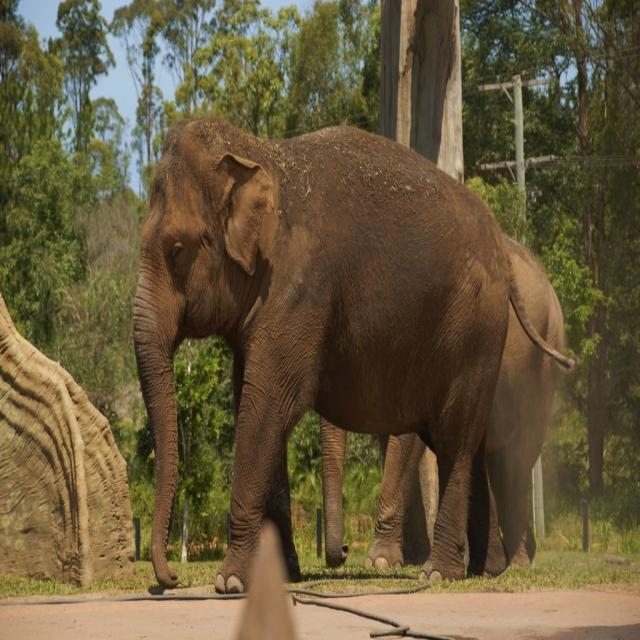elephant: (134, 118, 578, 585), (314, 234, 570, 565)
